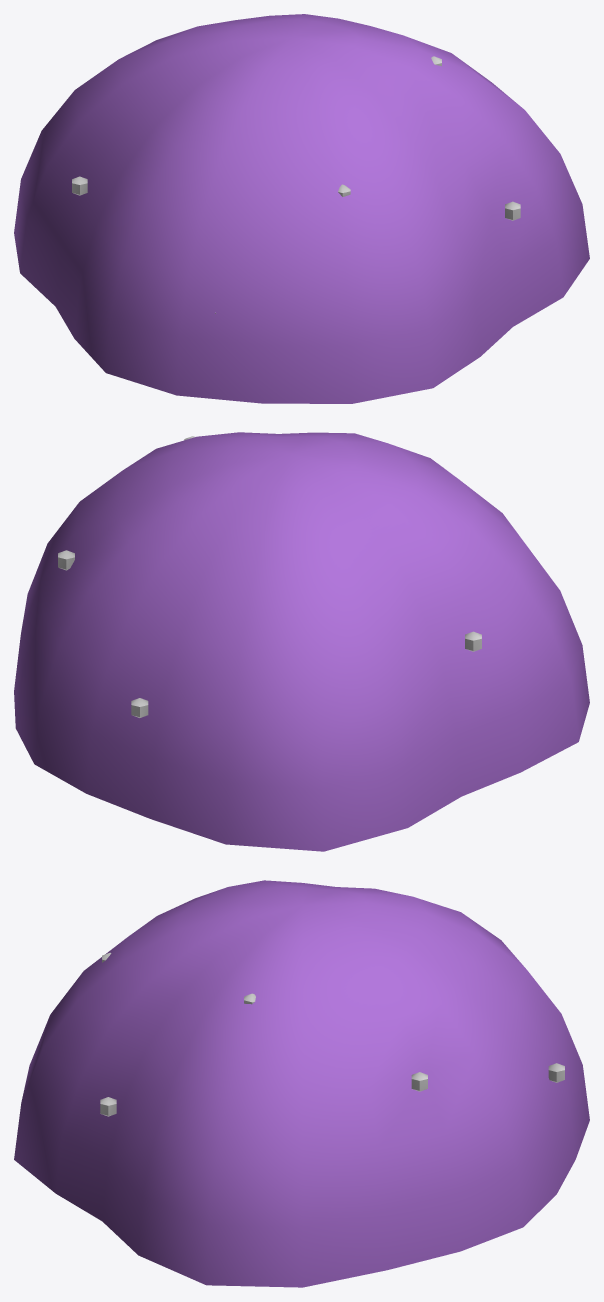
File: goo_blob.glb
The picture shows the model from 3 angles, top to bottom: view 1: azimuth 30°, elevation 25°; view 2: azimuth 150°, elevation 25°; view 3: azimuth 270°, elevation 25°; orthographic projection. The views are drawn at different scales.
Visible parts, largest first — view 1: goo_blob; view 2: goo_blob; view 3: goo_blob.
Boxes of the visible parts, left/top/right/bottom form: goo_blob: left=14, top=14, right=589, bottom=403; goo_blob: left=14, top=432, right=589, bottom=851; goo_blob: left=14, top=880, right=589, bottom=1287.
Size of the model in its own units: 1.84 by 0.9 by 1.85.
